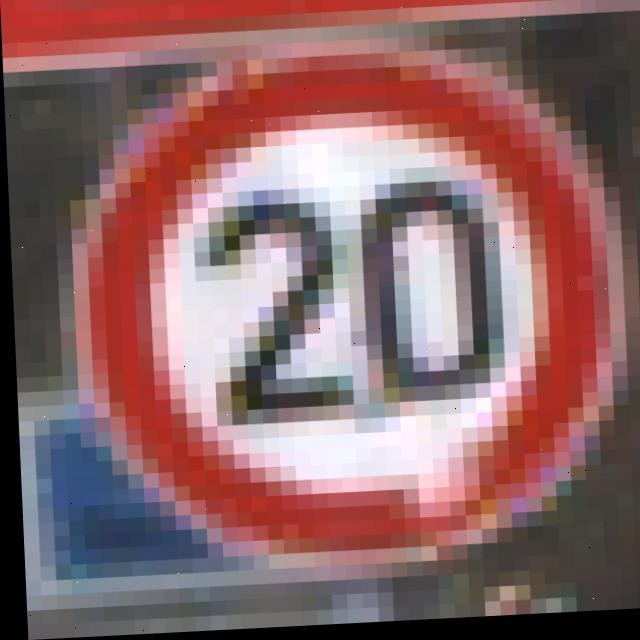speed_limit_20: (61, 26, 640, 584)
